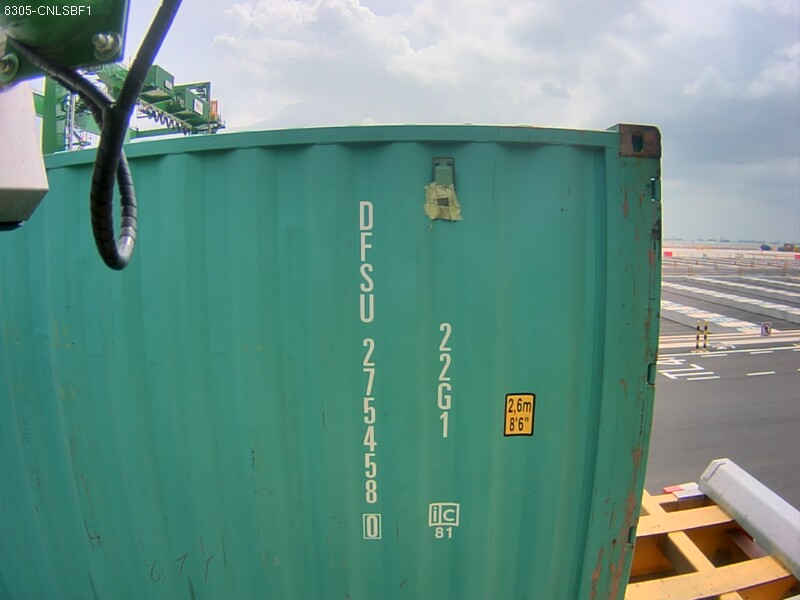container_no_door: (249, 116, 668, 541)
